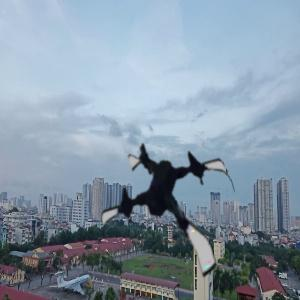drone: (95, 136, 246, 287)
